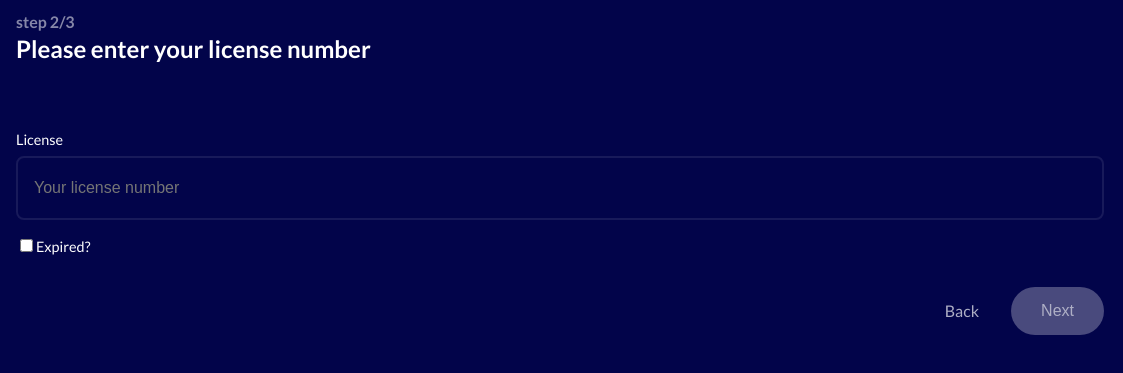
Test: component StepDriverTwo › should not sumbit when license is empty
Click the button "Next". click: (1058, 311)
box: [1011, 287, 1104, 335]
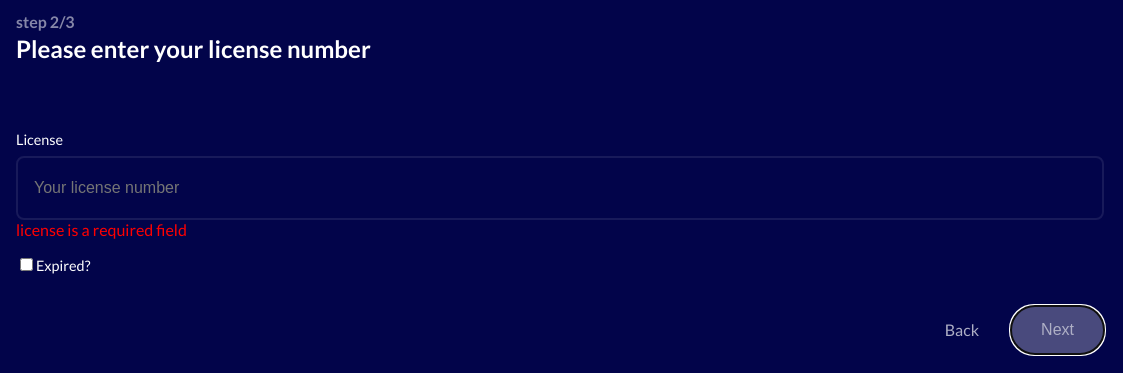
Now the text "license is a required field" is shown, box [16, 220, 187, 239]
